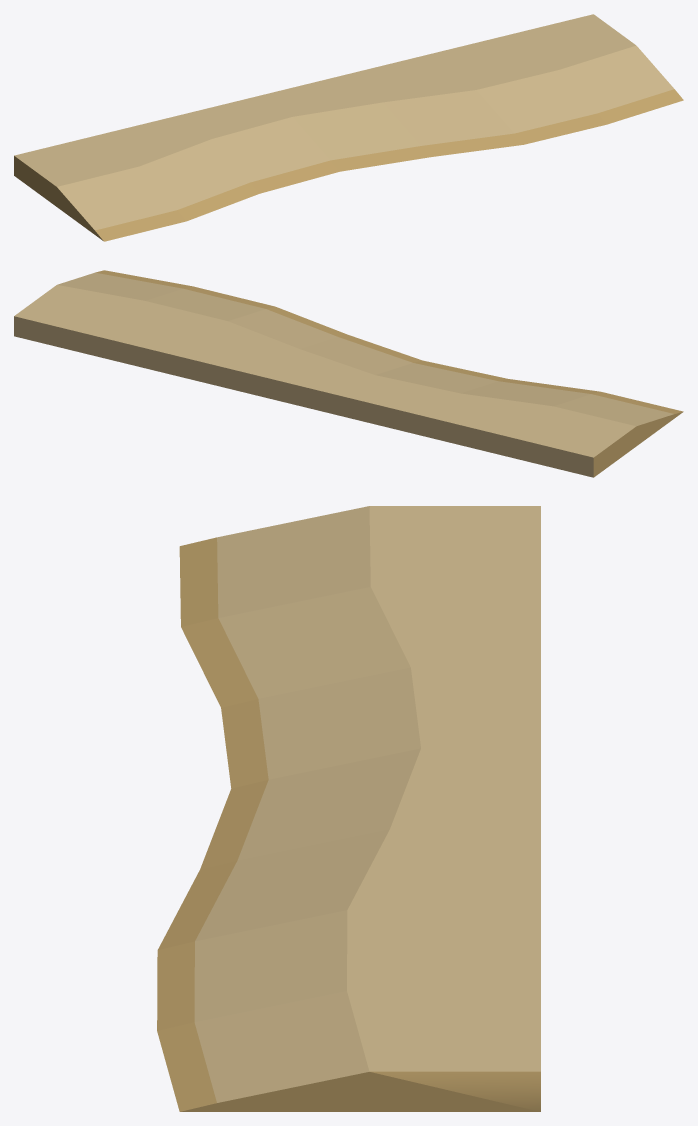
The model's file is shatan02.FBX.
The picture shows the model from 3 angles, top to bottom: view 1: azimuth 30°, elevation 25°; view 2: azimuth 150°, elevation 25°; view 3: azimuth 270°, elevation 25°; orthographic projection. The views are drawn at different scales.
Visible parts, largest first — view 1: shatan02; view 2: shatan02; view 3: shatan02.
Part boxes in pixels (left/top/right/bottom): shatan02: left=14, top=14, right=683, bottom=241; shatan02: left=14, top=270, right=683, bottom=477; shatan02: left=157, top=506, right=540, bottom=1111.
Size of the model in its own units: 14255 by 473 by 4087.
